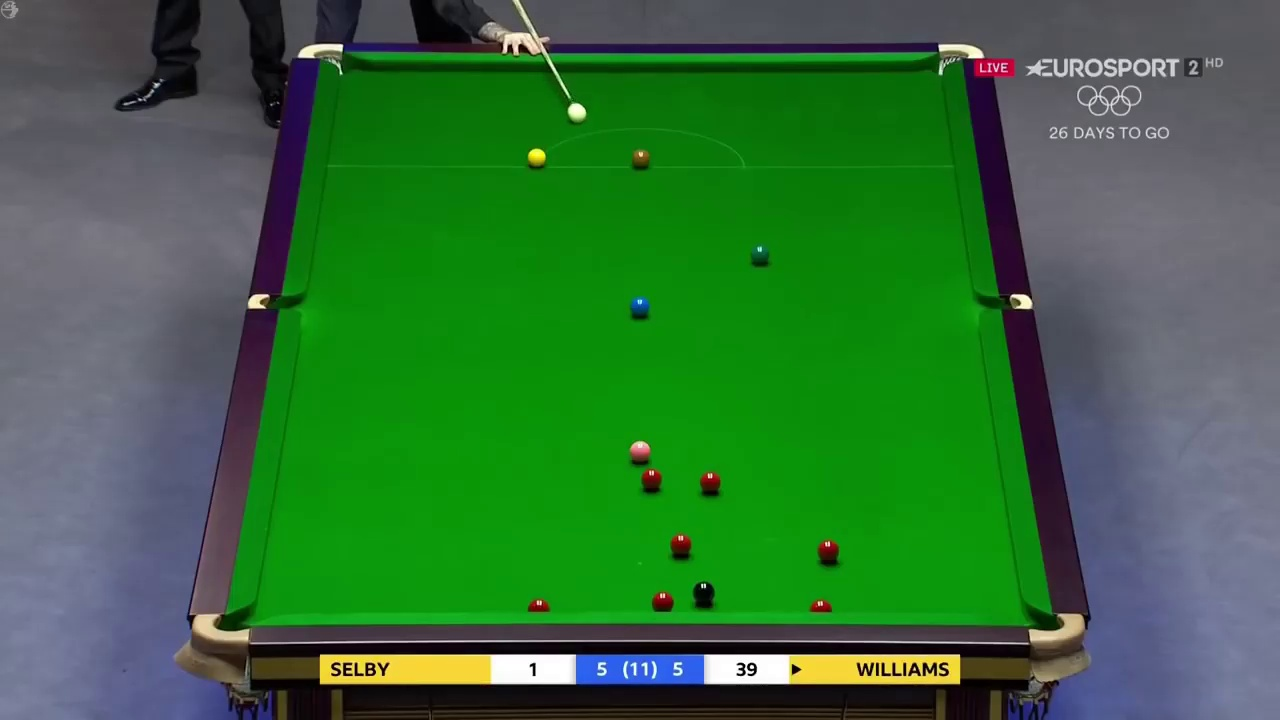ball: (816, 539, 840, 565), (747, 242, 769, 269), (627, 437, 648, 464), (697, 471, 721, 494), (667, 532, 691, 555), (691, 578, 714, 602), (639, 469, 665, 489), (629, 296, 651, 319), (524, 146, 545, 170), (630, 150, 652, 170), (565, 102, 587, 121)
